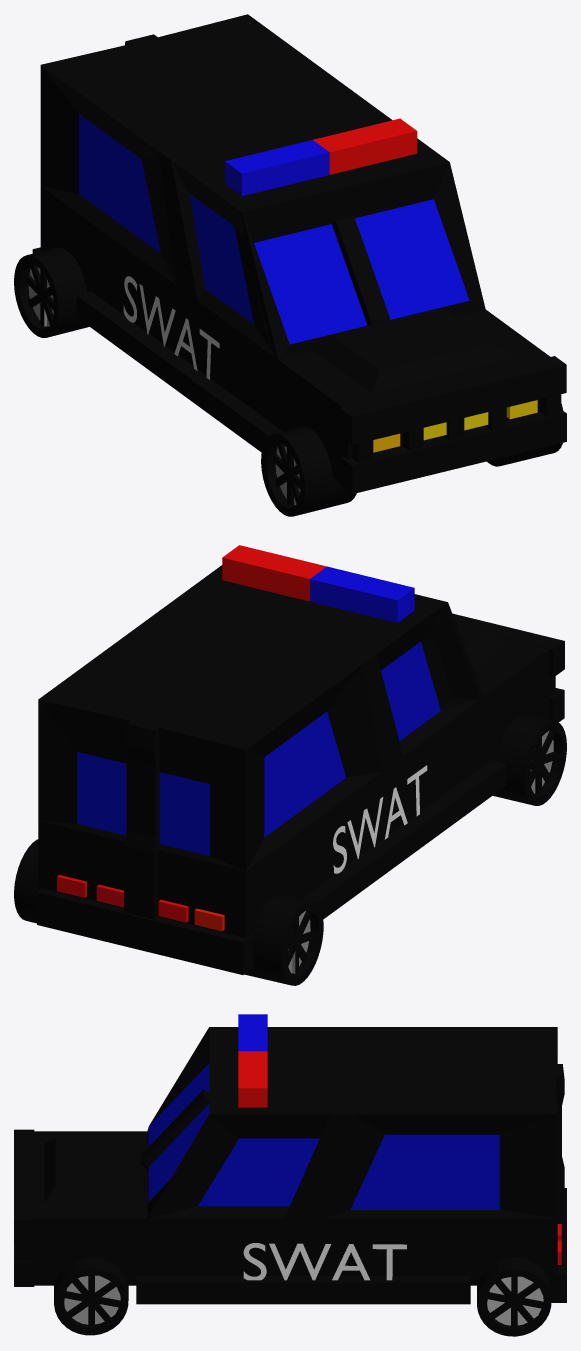
File: swan van (test copy).fbx
The picture shows the model from 3 angles, top to bottom: view 1: azimuth 30°, elevation 25°; view 2: azimuth 150°, elevation 25°; view 3: azimuth 270°, elevation 25°; orthographic projection. The views are drawn at different scales.
Parts seen in each view (by area): view 1: Cube, Text.001; view 2: Cube, Text.001; view 3: Cube, Text.
Part boxes in pixels (x1,y1,x2,y2): Cube: (14,14,566,516); Text.001: (123,276,219,379); Cube: (14,545,566,985); Text.001: (333,765,427,873); Cube: (14,1014,566,1336); Text: (243,1243,406,1280).
Size of the model in its own units: 442 by 422 by 919.
